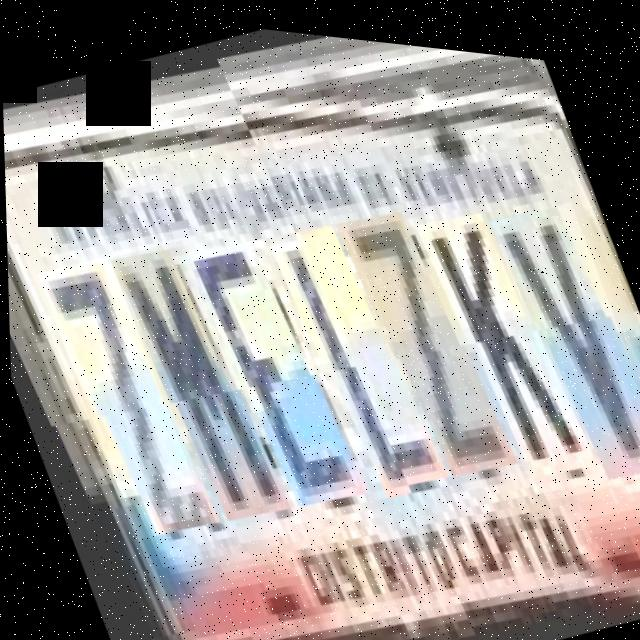E: (181, 220, 359, 513)
K: (417, 192, 591, 483)
L: (269, 209, 443, 500)
M: (109, 229, 282, 528)
V: (489, 181, 640, 481)
Z: (35, 245, 214, 546), (337, 193, 512, 484)
